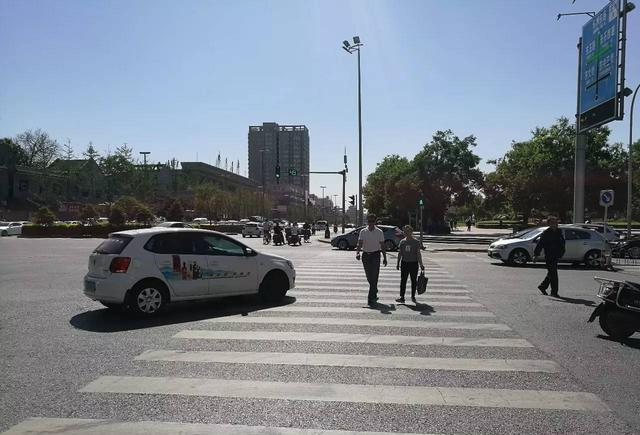car: (82, 227, 295, 315), (487, 223, 618, 268), (330, 225, 407, 250), (566, 223, 623, 244), (214, 221, 243, 235), (241, 221, 262, 238), (0, 221, 23, 236), (156, 221, 191, 229), (191, 218, 211, 223)
motorcycle: (586, 272, 640, 342)
person: (353, 215, 391, 307), (394, 226, 426, 305), (536, 219, 566, 298), (271, 222, 286, 246), (286, 223, 301, 246), (261, 220, 273, 245), (301, 223, 311, 243)
sign: (575, 0, 624, 133)
traffic light: (348, 195, 355, 208)
